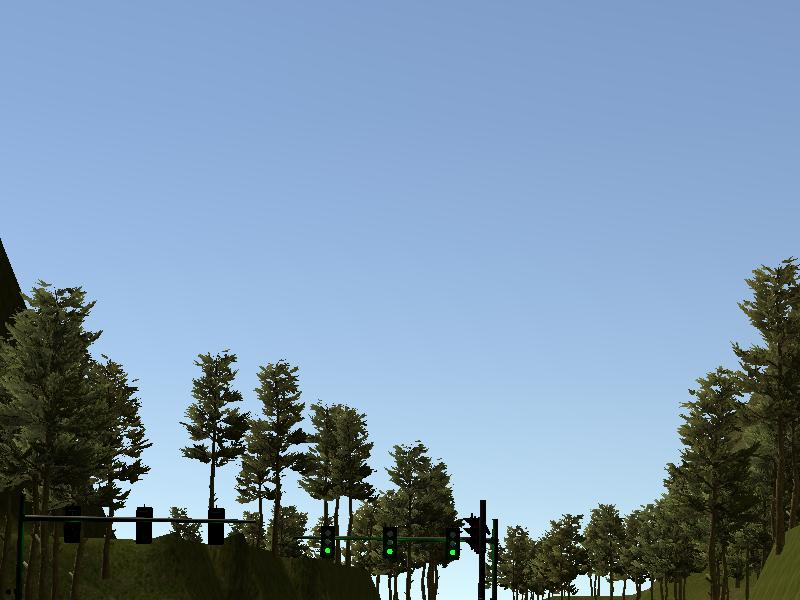Green: (320, 525, 334, 558), (383, 527, 396, 560), (446, 529, 459, 558)
